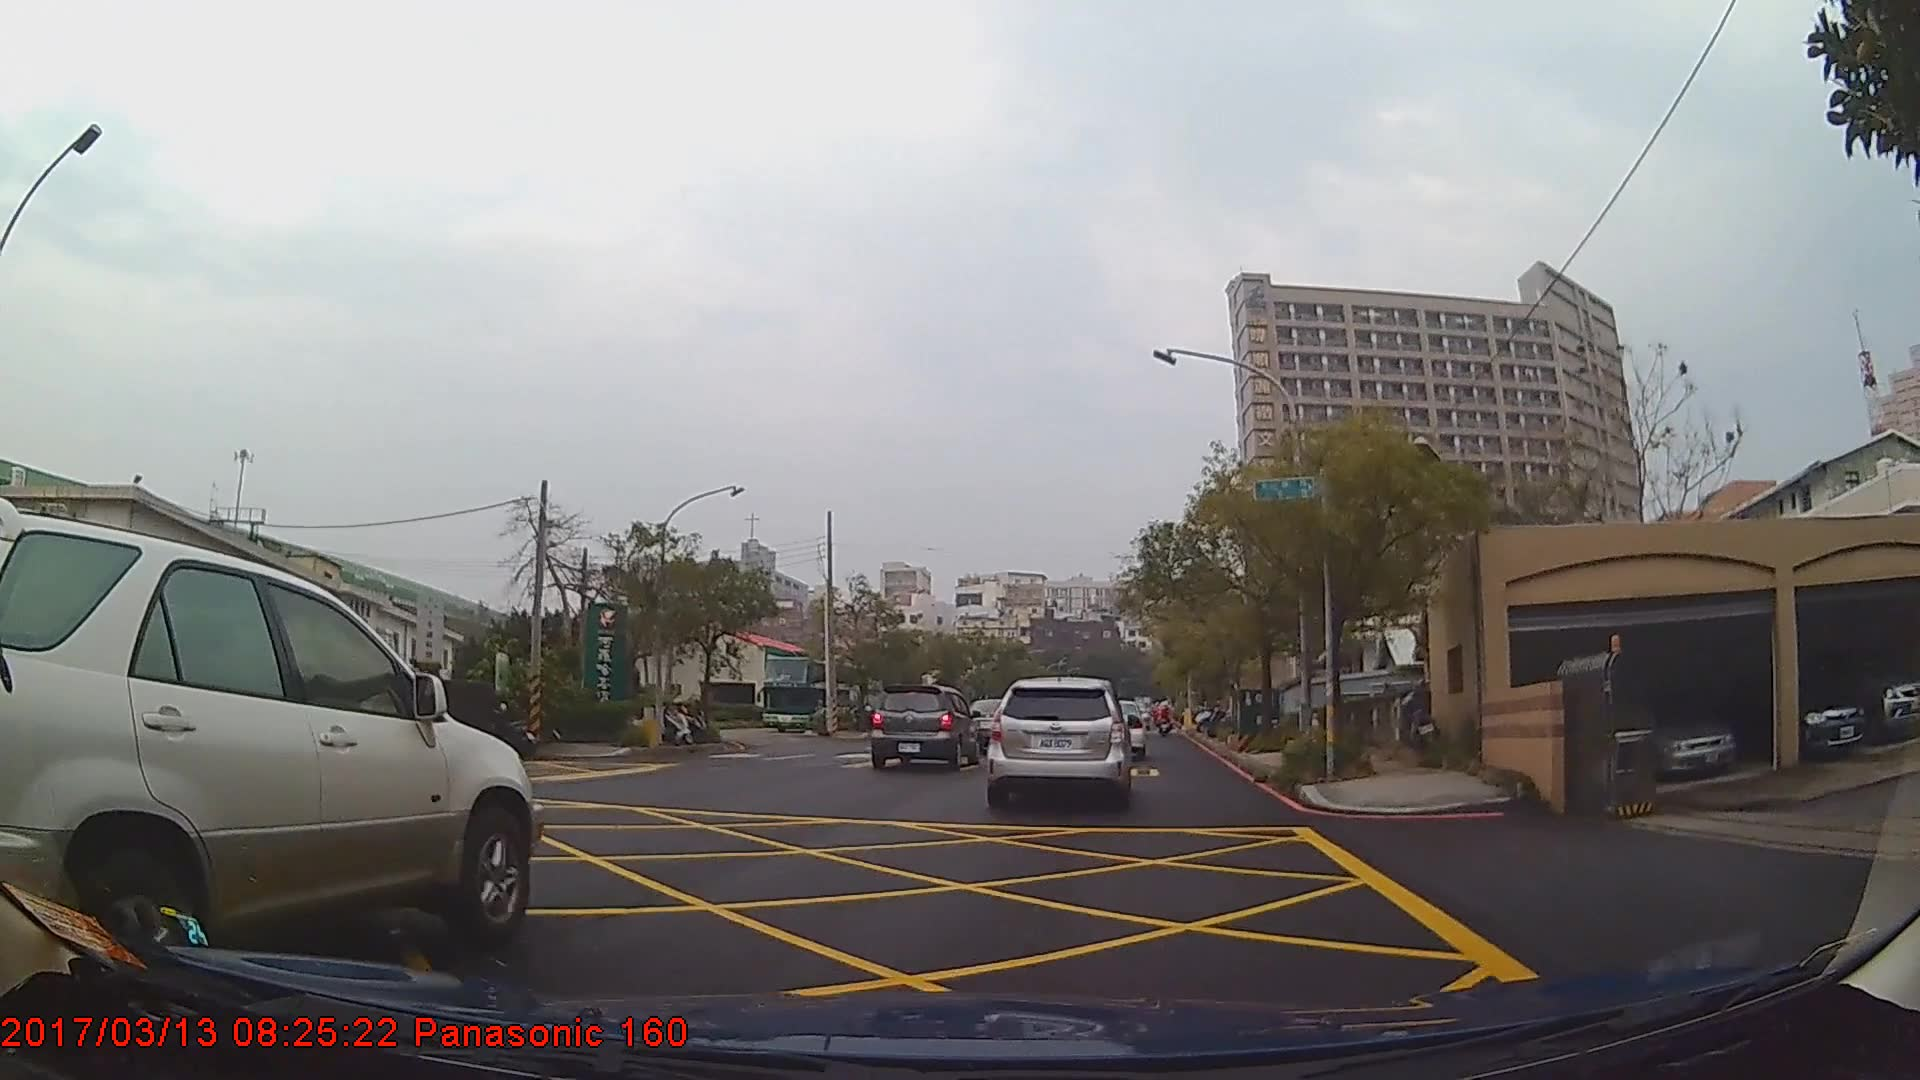vehicle: (0, 500, 541, 986), (982, 673, 1131, 803), (1611, 687, 1741, 773), (868, 680, 981, 764), (762, 659, 870, 735)
